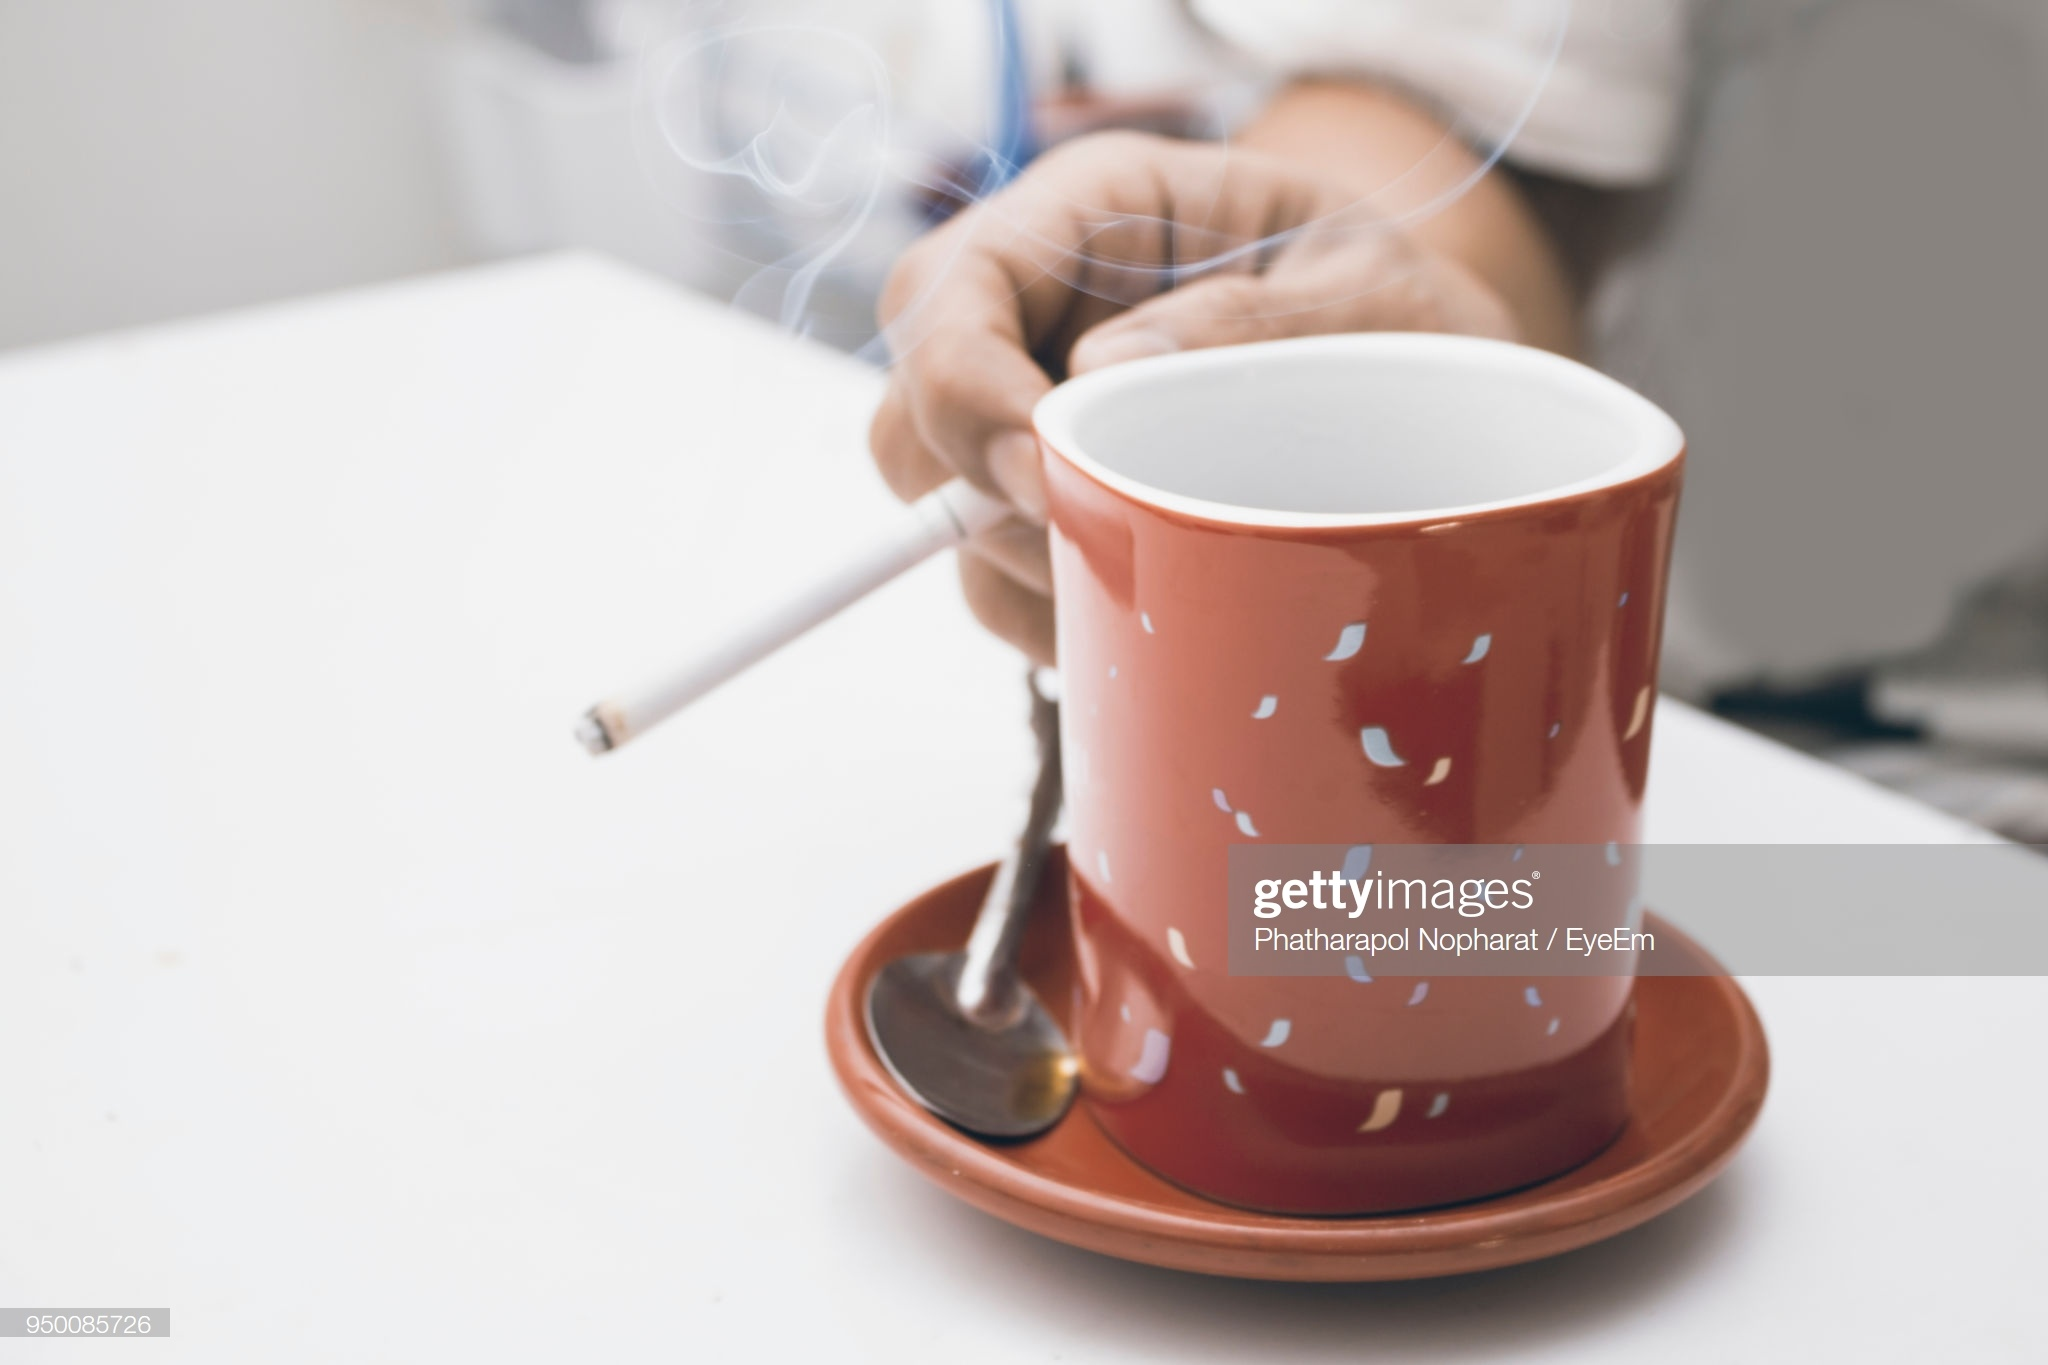sigaretta: (569, 456, 1042, 750)
